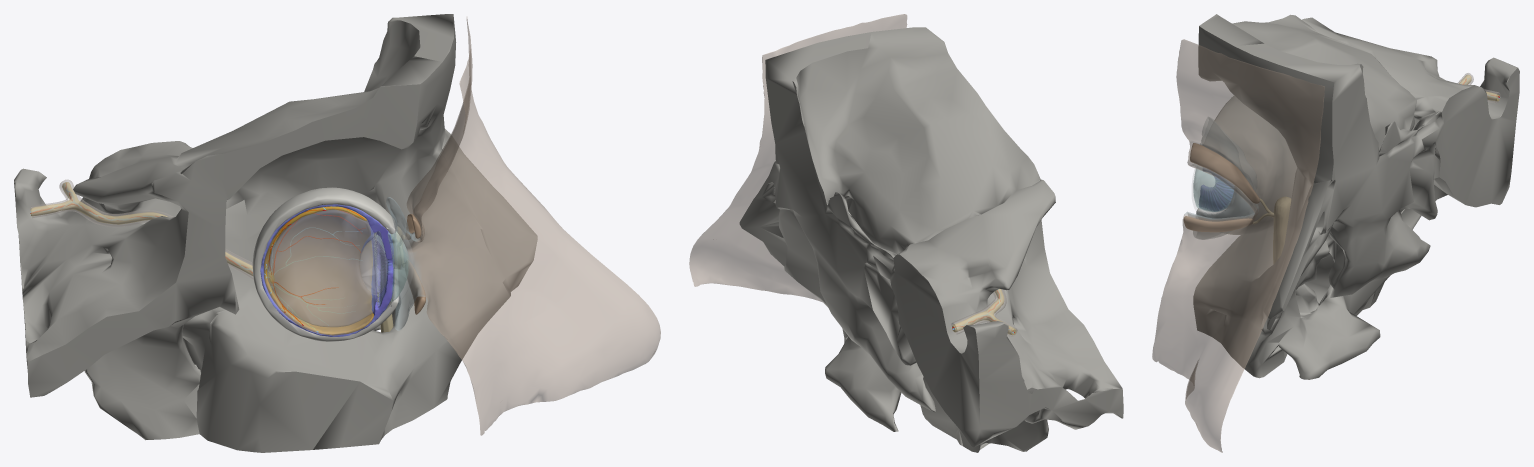
The model's file is eye-anatomy.glb.
3 views of the same model, side by side, from view 1: azimuth 30°, elevation 25°; view 2: azimuth 150°, elevation 25°; view 3: azimuth 270°, elevation 25° (orthographic). The views are drawn at different scales.
Visible parts, largest first — view 1: Bones10_Bones10_0, Skin_Skin_0, Choroid_Choroid_0, Optic_part_of_right_retina_Optic_part_of_right_retina_0, Glasvocht_Glasvocht_0, Sclera_Sclera_0, Right_optic_nerve2_Right_optic_nerve2_0, Right_optic_nerve1_Right_optic_nerve1_0, Tarsal_plate_upper_eyelid_Tarsal_plate_upper_eyelid_0, Lens_Lens_0, Anterior_chamber_Anterior_chamber_0; view 2: Bones10_Bones10_0, Skin_Skin_0, Right_optic_nerve2_Right_optic_nerve2_0, Right_optic_nerve1_Right_optic_nerve1_0; view 3: Bones10_Bones10_0, Skin_Skin_0, Sclera_Sclera_0, Tarsal_plate_upper_eyelid_Tarsal_plate_upper_eyelid_0, Cornea1_Cornea1_0, Anterior_chamber_Anterior_chamber_0, Choroid_Choroid_0.
Boxes of the visible parts, <box> form: Bones10_Bones10_0: <box>14,14,537,452</box>; Skin_Skin_0: <box>386,17,660,435</box>; Choroid_Choroid_0: <box>260,204,394,336</box>; Optic_part_of_right_retina_Optic_part_of_right_retina_0: <box>264,206,373,335</box>; Glasvocht_Glasvocht_0: <box>267,207,376,326</box>; Sclera_Sclera_0: <box>252,187,399,341</box>; Right_optic_nerve2_Right_optic_nerve2_0: <box>31,179,253,280</box>; Right_optic_nerve1_Right_optic_nerve1_0: <box>30,182,274,282</box>; Tarsal_plate_upper_eyelid_Tarsal_plate_upper_eyelid_0: <box>373,214,425,332</box>; Lens_Lens_0: <box>360,234,387,294</box>; Anterior_chamber_Anterior_chamber_0: <box>387,231,409,301</box>; Bones10_Bones10_0: <box>739,27,1123,452</box>; Skin_Skin_0: <box>689,14,907,302</box>; Right_optic_nerve2_Right_optic_nerve2_0: <box>951,289,1017,336</box>; Right_optic_nerve1_Right_optic_nerve1_0: <box>952,289,1016,335</box>; Bones10_Bones10_0: <box>1193,14,1519,379</box>; Skin_Skin_0: <box>1152,39,1324,452</box>; Sclera_Sclera_0: <box>1196,95,1296,234</box>; Tarsal_plate_upper_eyelid_Tarsal_plate_upper_eyelid_0: <box>1183,143,1291,264</box>; Cornea1_Cornea1_0: <box>1192,168,1234,214</box>; Anterior_chamber_Anterior_chamber_0: <box>1193,167,1233,211</box>; Choroid_Choroid_0: <box>1199,169,1233,211</box>.
Size of the model in its own units: 109 by 68.83 by 66.88.
